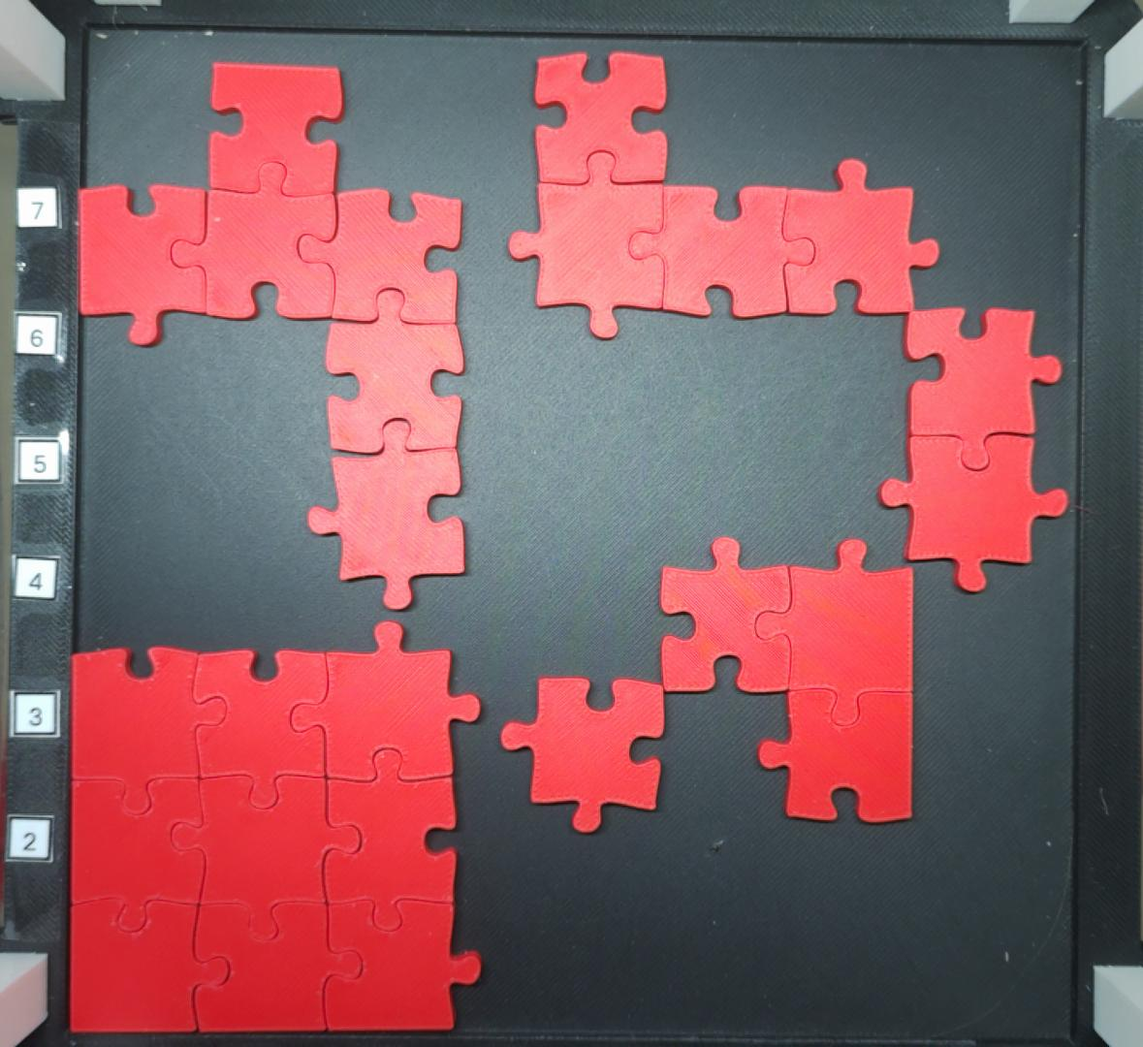p_1: (498, 674, 665, 835)
p_2: (875, 305, 1071, 596)
p_3: (658, 535, 917, 827)
p_4: (506, 49, 941, 341)
p_m: (77, 57, 471, 614), (65, 619, 484, 1036)
